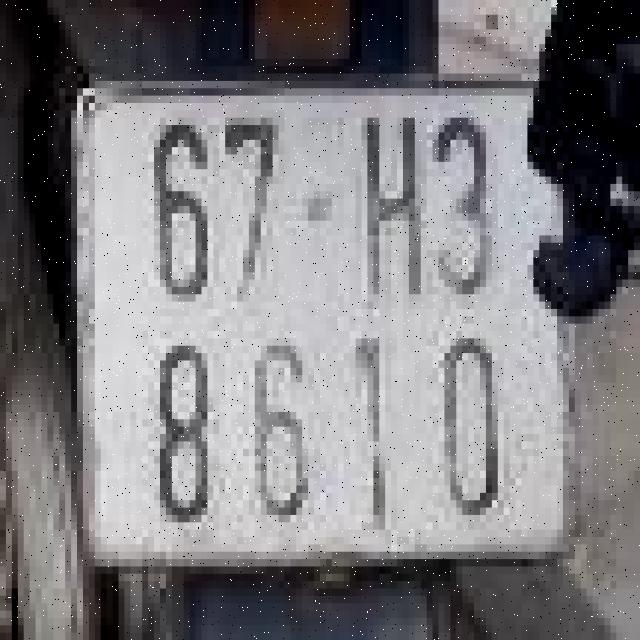0: (426, 320, 509, 526)
1: (335, 327, 400, 526)
3: (426, 110, 504, 309)
6: (237, 335, 320, 526), (142, 114, 219, 313)
7: (219, 107, 279, 305)
8: (145, 323, 222, 530)
H: (349, 107, 426, 305)
